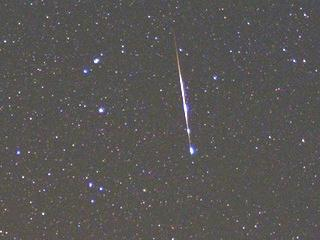meteorite: (169, 48, 199, 162)
